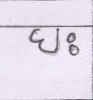anusvara: (67, 33, 75, 42)
